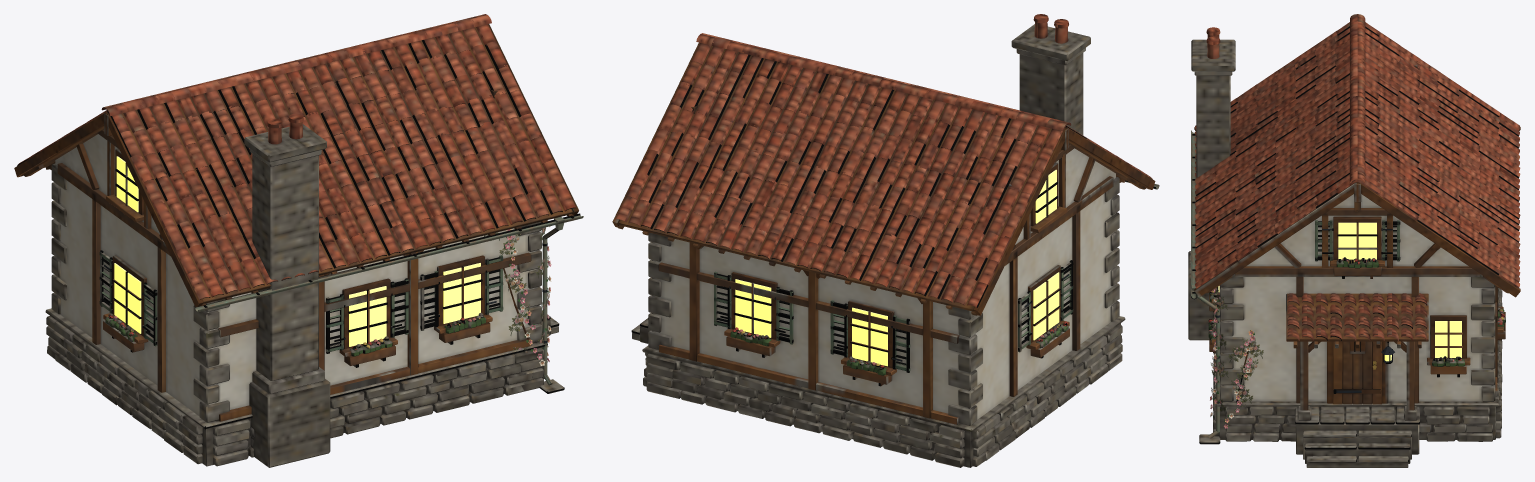
Rendered from farmhouse_temperate_v2.glb.
3 renders of one model, left to right at view 1: azimuth 30°, elevation 25°; view 2: azimuth 150°, elevation 25°; view 3: azimuth 270°, elevation 25°, orthographic. The views are drawn at different scales.
Visible parts, largest first — view 1: TerracottaRoof, StoneMasonry, TimberAndDetails, PlasterWalls, WindowsShuttersFlowers, WindowGlassGlow, ClimbingRoseVines, ClimbingRoses3D; view 2: TerracottaRoof, StoneMasonry, PlasterWalls, TimberAndDetails, WindowsShuttersFlowers, WindowGlassGlow; view 3: TerracottaRoof, StoneMasonry, TimberAndDetails, PlasterWalls, WindowsShuttersFlowers, WindowGlassGlow, ClimbingRoseVines, ClimbingRoses3D.
Part boxes in pixels (x1,y1,x2,y2): TerracottaRoof: [17, 14, 576, 299]; StoneMasonry: [45, 113, 564, 467]; TimberAndDetails: [14, 24, 583, 421]; PlasterWalls: [55, 134, 538, 416]; WindowsShuttersFlowers: [99, 148, 503, 367]; WindowGlassGlow: [114, 156, 480, 346]; ClimbingRoseVines: [484, 220, 550, 352]; ClimbingRoses3D: [504, 226, 551, 365]; TerracottaRoof: [615, 33, 1152, 307]; StoneMasonry: [631, 14, 1125, 467]; PlasterWalls: [651, 148, 1115, 419]; TimberAndDetails: [612, 42, 1159, 424]; WindowsShuttersFlowers: [714, 162, 1073, 386]; WindowGlassGlow: [735, 169, 1059, 366]; TerracottaRoof: [1195, 14, 1520, 340]; StoneMasonry: [1188, 27, 1502, 467]; TimberAndDetails: [1191, 65, 1520, 438]; PlasterWalls: [1222, 194, 1492, 401]; WindowsShuttersFlowers: [1208, 216, 1505, 377]; WindowGlassGlow: [1218, 222, 1461, 361]; ClimbingRoseVines: [1210, 288, 1263, 420]; ClimbingRoses3D: [1210, 287, 1255, 428].
Bounding box in the file's own units: 9.66 × 7.17 × 7.38.
Materials: 4 (3 with a texture image).
